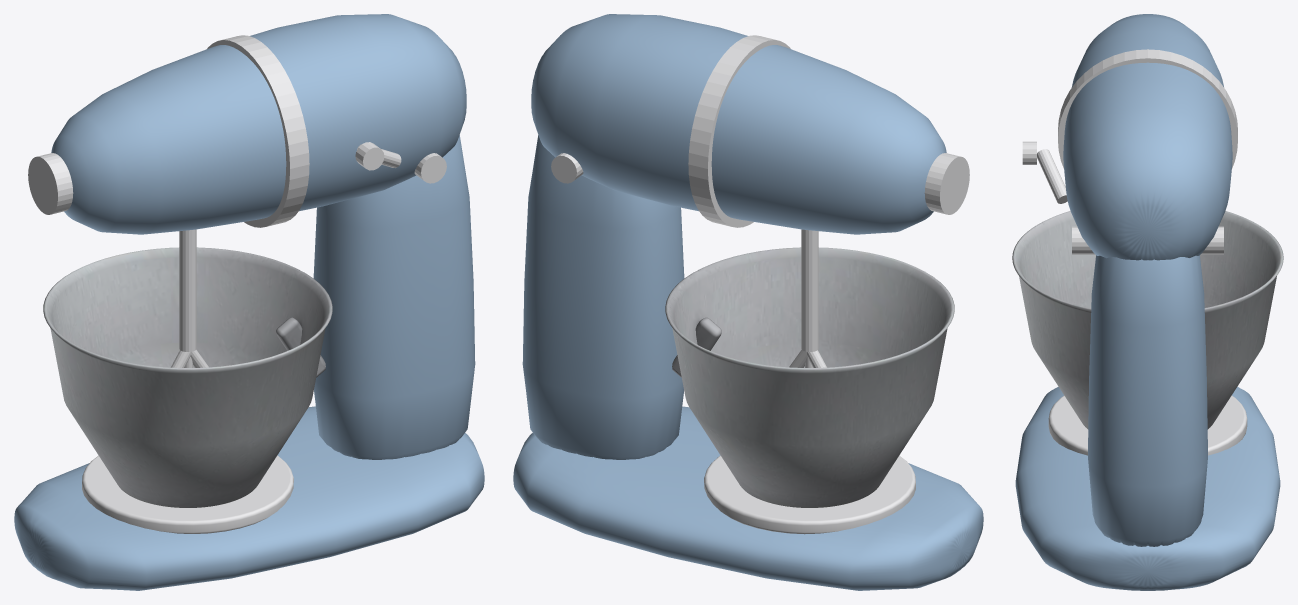
File: pastel-blue.glb
The picture shows the model from 3 angles, left to right: view 1: azimuth 30°, elevation 25°; view 2: azimuth 150°, elevation 25°; view 3: azimuth 270°, elevation 25°; orthographic projection. The views are drawn at different scales.
Visible parts, largest first — view 1: paint_primary, steel, chrome; view 2: paint_primary, steel, chrome; view 3: paint_primary, steel, chrome.
Part boxes in pixels (x1,y1,x2,y2): paint_primary: (14,14,484,590); steel: (43,247,332,507); chrome: (28,35,446,533); paint_primary: (513,14,983,590); steel: (665,247,954,507); chrome: (551,35,969,534); paint_primary: (1015,14,1280,590); steel: (1012,211,1283,429); chrome: (1022,49,1247,455).
Bounding box in the file's own units: 0.3961 × 0.425 × 0.232.
3 materials, 1 textured.
